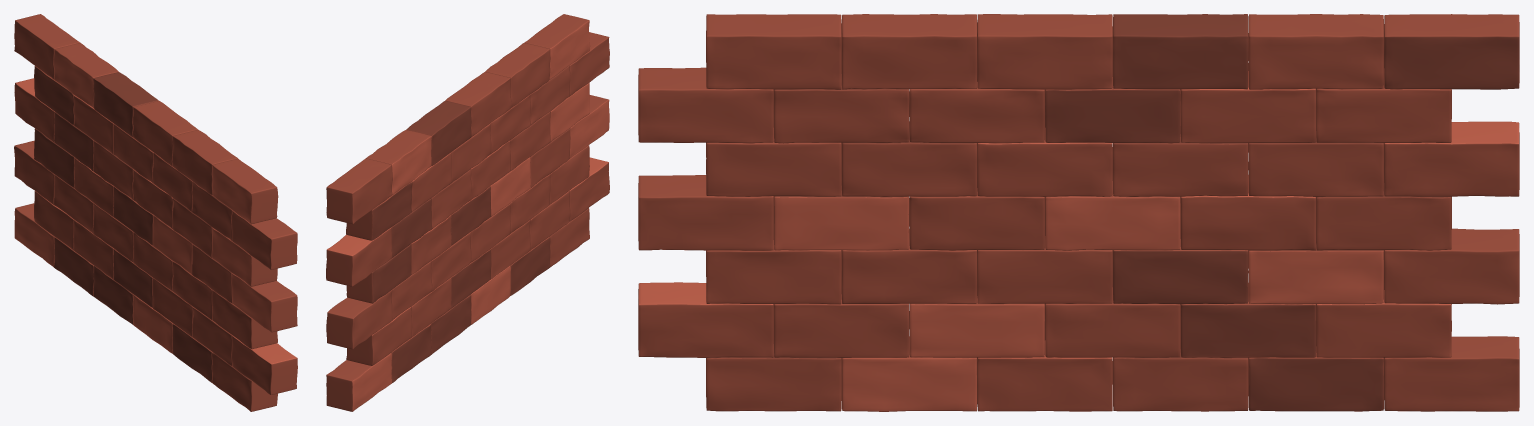
Rendered from IdontKnow.fbx.
3 views of the same model, side by side, from view 1: azimuth 30°, elevation 25°; view 2: azimuth 150°, elevation 25°; view 3: azimuth 270°, elevation 25° (orthographic). The views are drawn at different scales.
Parts seen in each view (by area): view 1: Plane001; view 2: Plane001; view 3: Plane001.
Boxes of the visible parts, x1,y1,x2,y2 form: Plane001: (14, 14, 297, 411); Plane001: (326, 14, 609, 411); Plane001: (638, 14, 1519, 411).
Bounding box in the file's own units: 21.44 × 158 × 335.
